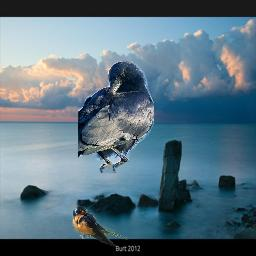Crow: (78, 61, 154, 173)
Swallow: (72, 205, 128, 247)
